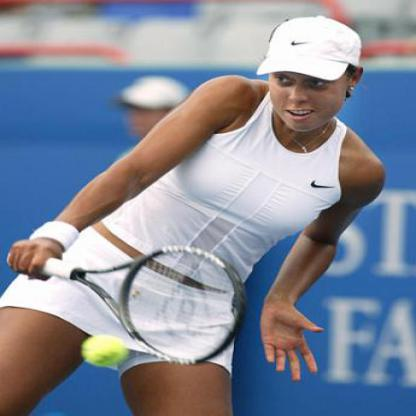face: (268, 30, 351, 133), (128, 82, 180, 146)
